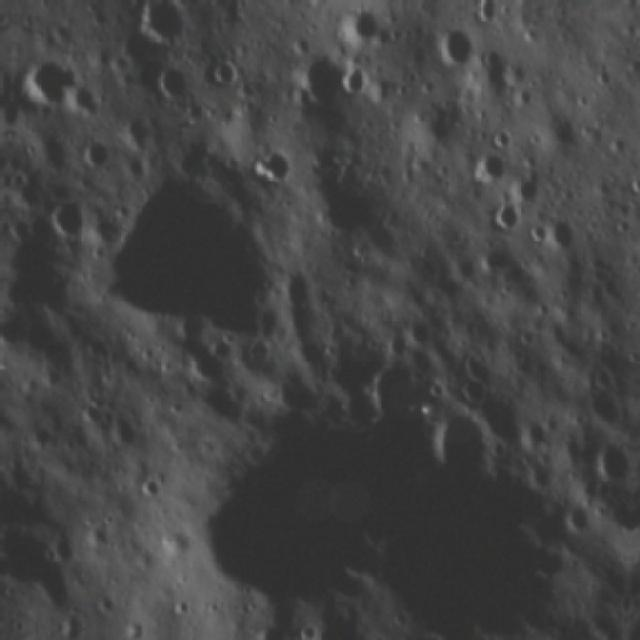crater: (88, 166, 283, 346), (0, 519, 75, 618), (418, 399, 496, 481), (355, 355, 423, 436), (289, 46, 349, 120), (117, 0, 191, 55), (18, 49, 76, 109), (172, 336, 234, 392), (586, 434, 636, 497), (426, 20, 479, 72), (582, 379, 630, 435), (340, 2, 388, 55), (146, 61, 197, 110), (465, 137, 513, 189), (249, 148, 305, 192), (66, 76, 112, 129), (556, 495, 602, 539), (42, 195, 87, 239), (501, 162, 542, 208), (544, 210, 584, 256), (153, 522, 196, 564), (516, 454, 559, 494), (0, 306, 35, 355), (336, 59, 372, 106), (100, 405, 138, 449), (77, 136, 115, 172), (242, 612, 290, 639), (205, 53, 240, 90), (488, 198, 524, 233), (76, 392, 104, 436), (136, 470, 169, 504), (604, 128, 630, 164), (486, 121, 516, 152), (523, 218, 548, 247), (468, 7, 498, 27), (411, 626, 449, 640), (632, 408, 636, 454)
